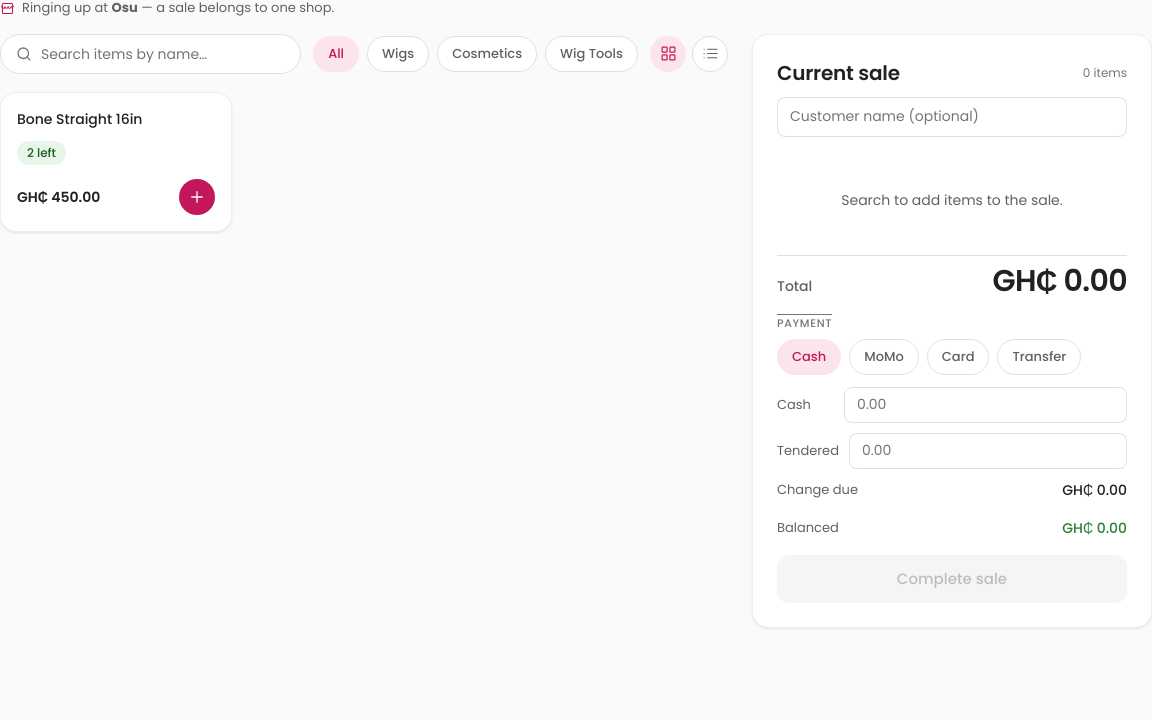
Test: SellView — confirming a changed price (#30) › Back to cart writes nothing and leaves the new price on screen
Click the button named "Add Bone Straight 16in" at (197, 197), box [179,179,215,215]
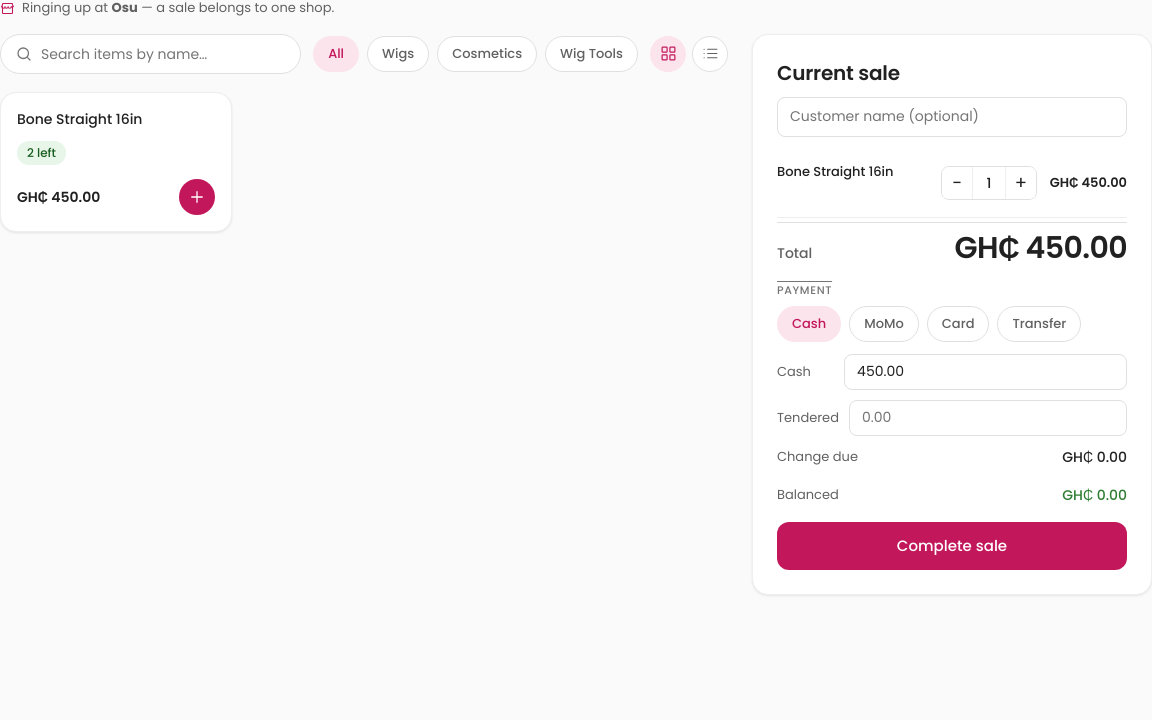
Click the button "Complete sale" at (952, 546), box [777,522,1127,570]
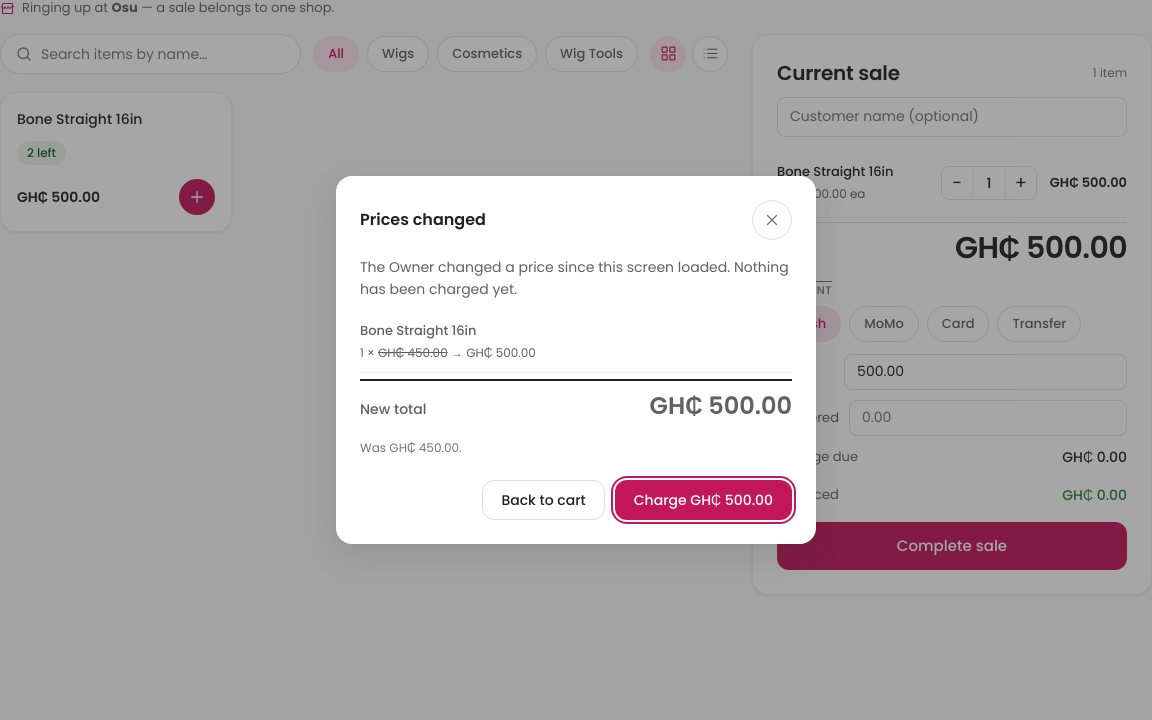
Click the button "Back to cart" at (544, 500), box [482,480,605,520]
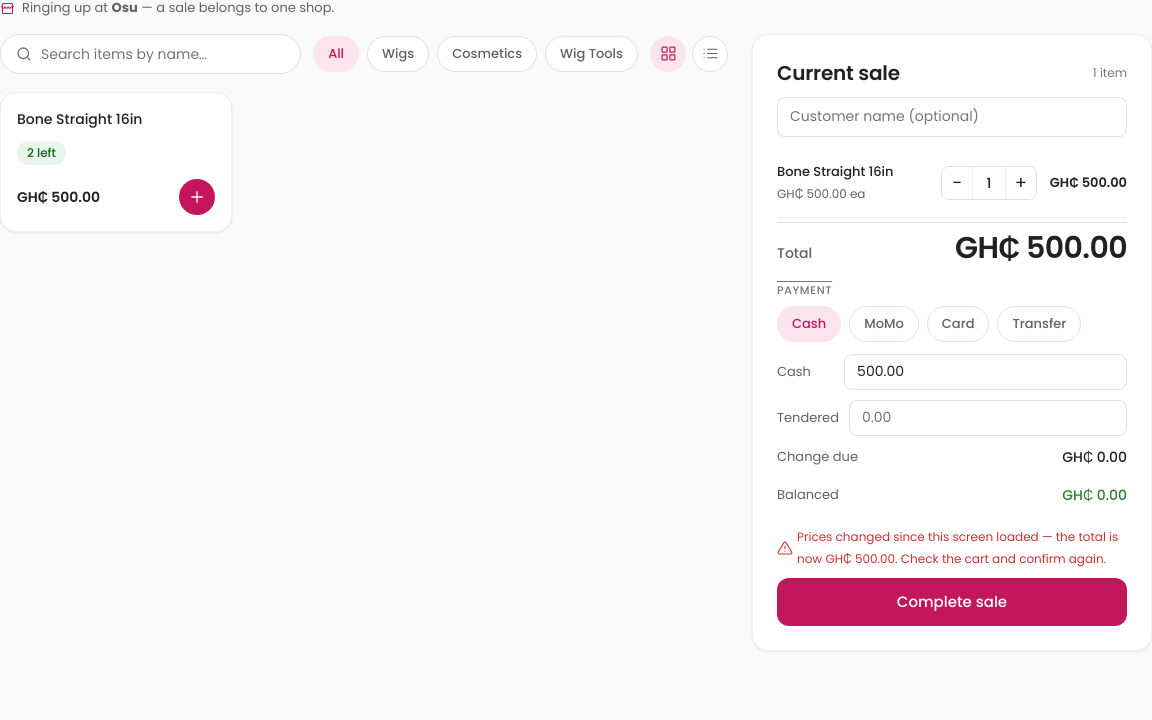
Result: the dialog is gone
Result: the message shows "total is now" at [797,528,1118,567]
